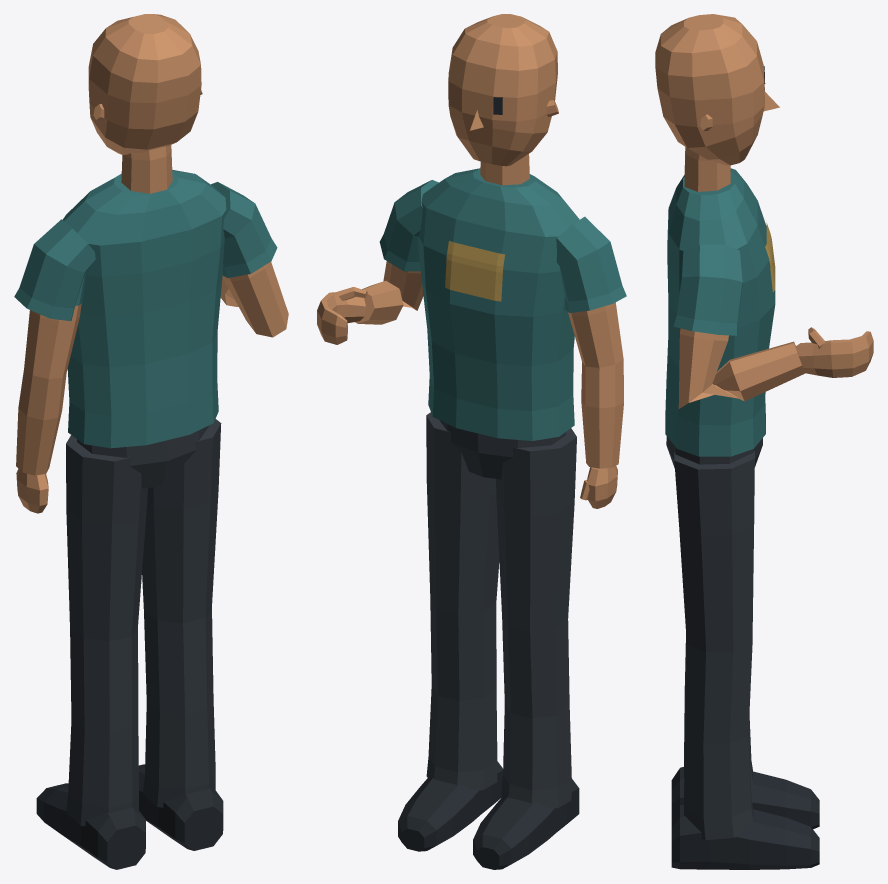
The model's file is lwf_attendee_male_drink_hold_v2.glb.
The picture shows the model from 3 angles, left to right: view 1: azimuth 30°, elevation 25°; view 2: azimuth 150°, elevation 25°; view 3: azimuth 270°, elevation 25°; orthographic projection. The views are drawn at different scales.
Visible parts, largest first — view 1: Attendee_male_drink_hold_v6; view 2: Attendee_male_drink_hold_v6; view 3: Attendee_male_drink_hold_v6.
Boxes of the visible parts, x1,y1,x2,y2 form: Attendee_male_drink_hold_v6: (14,14,288,869); Attendee_male_drink_hold_v6: (317,14,626,869); Attendee_male_drink_hold_v6: (655,14,873,869).
Size of the model in its own units: 0.5591 by 1.73 by 0.4147.
1 material, 1 textured.
